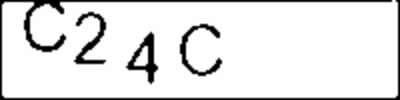2: (72, 7, 109, 68)
4: (121, 27, 162, 88)
C: (177, 21, 228, 80), (20, 1, 68, 56)
